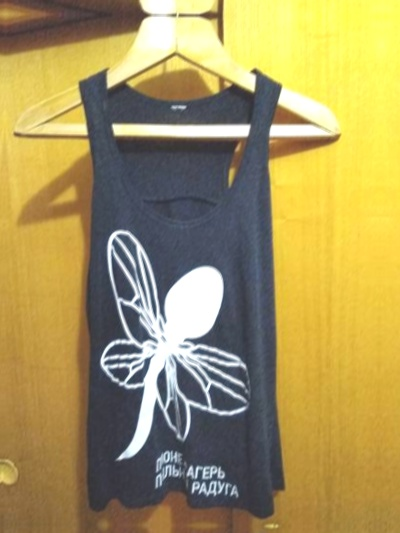Dress: (50, 38, 328, 524), (47, 528, 325, 533)
